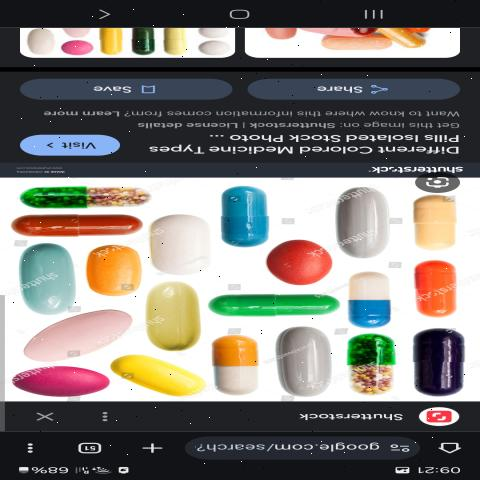Pill: (319, 180, 407, 264), (260, 318, 344, 403), (14, 306, 126, 367), (1, 241, 87, 320), (124, 279, 211, 356), (143, 209, 218, 282), (209, 182, 287, 251), (256, 237, 353, 292), (402, 327, 465, 399), (202, 326, 264, 399), (401, 194, 469, 255), (339, 266, 400, 331)
